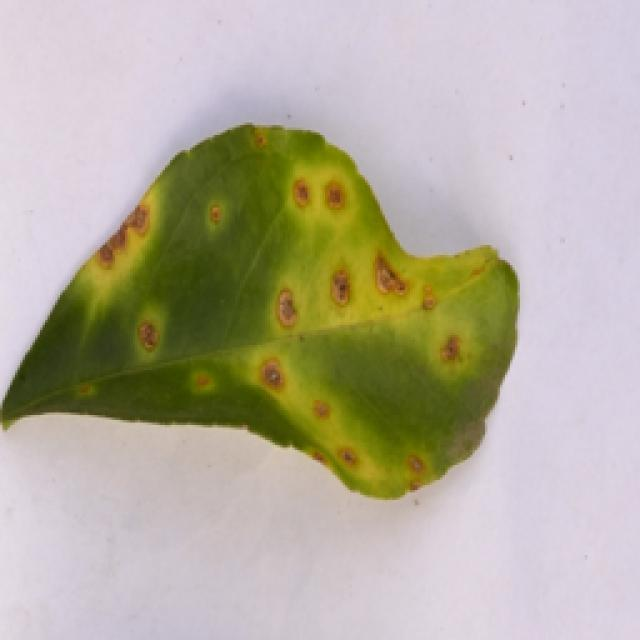canker: (45, 104, 525, 497)
